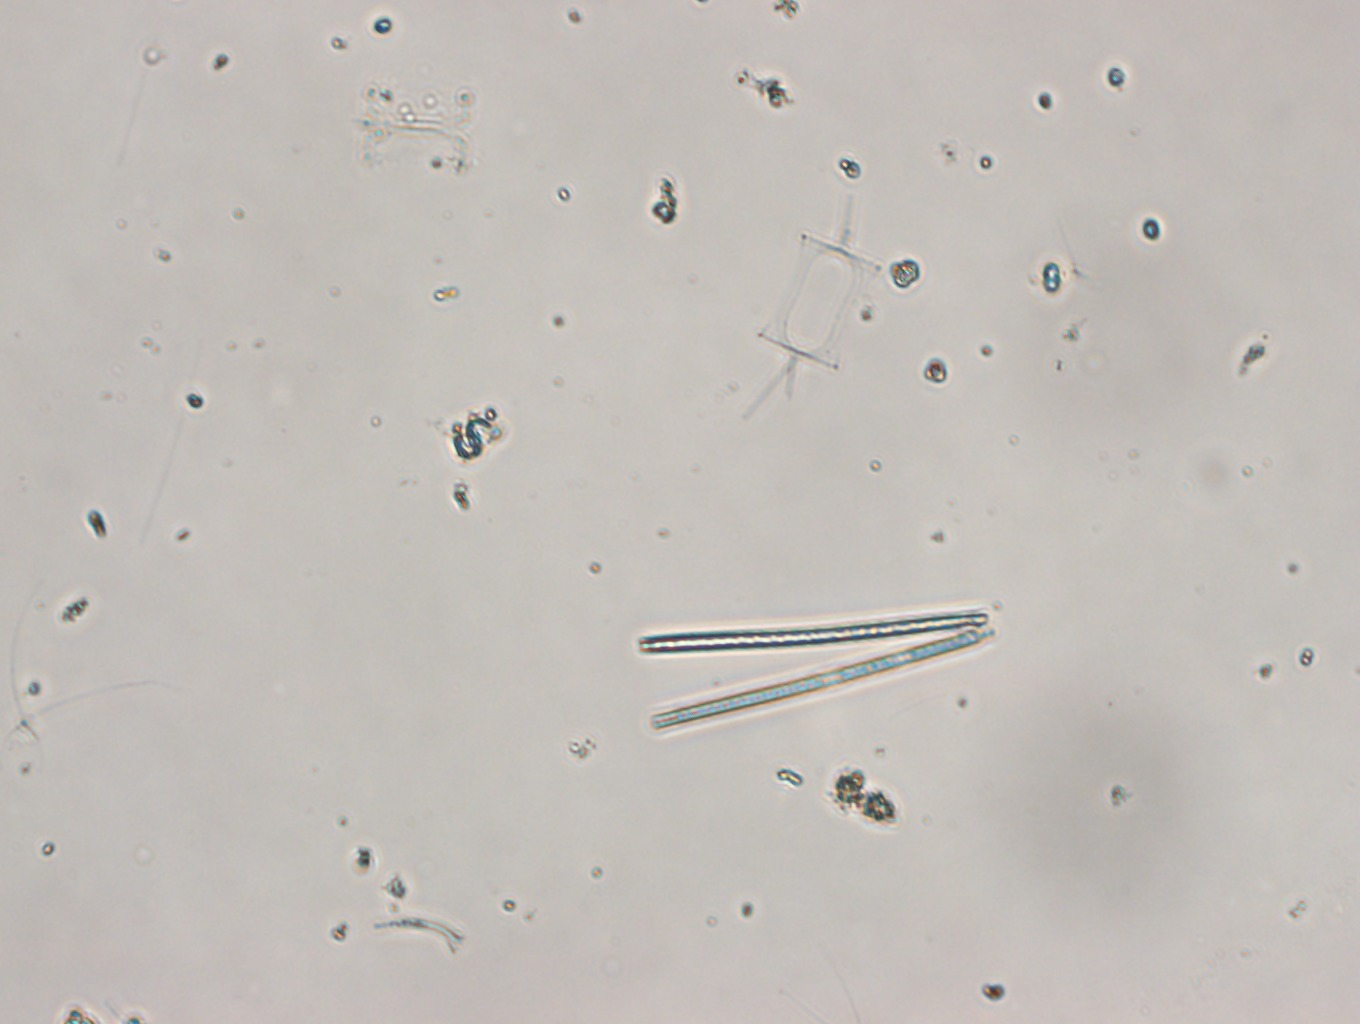thalassionema frauenfeldii: (622, 612, 1016, 739)
